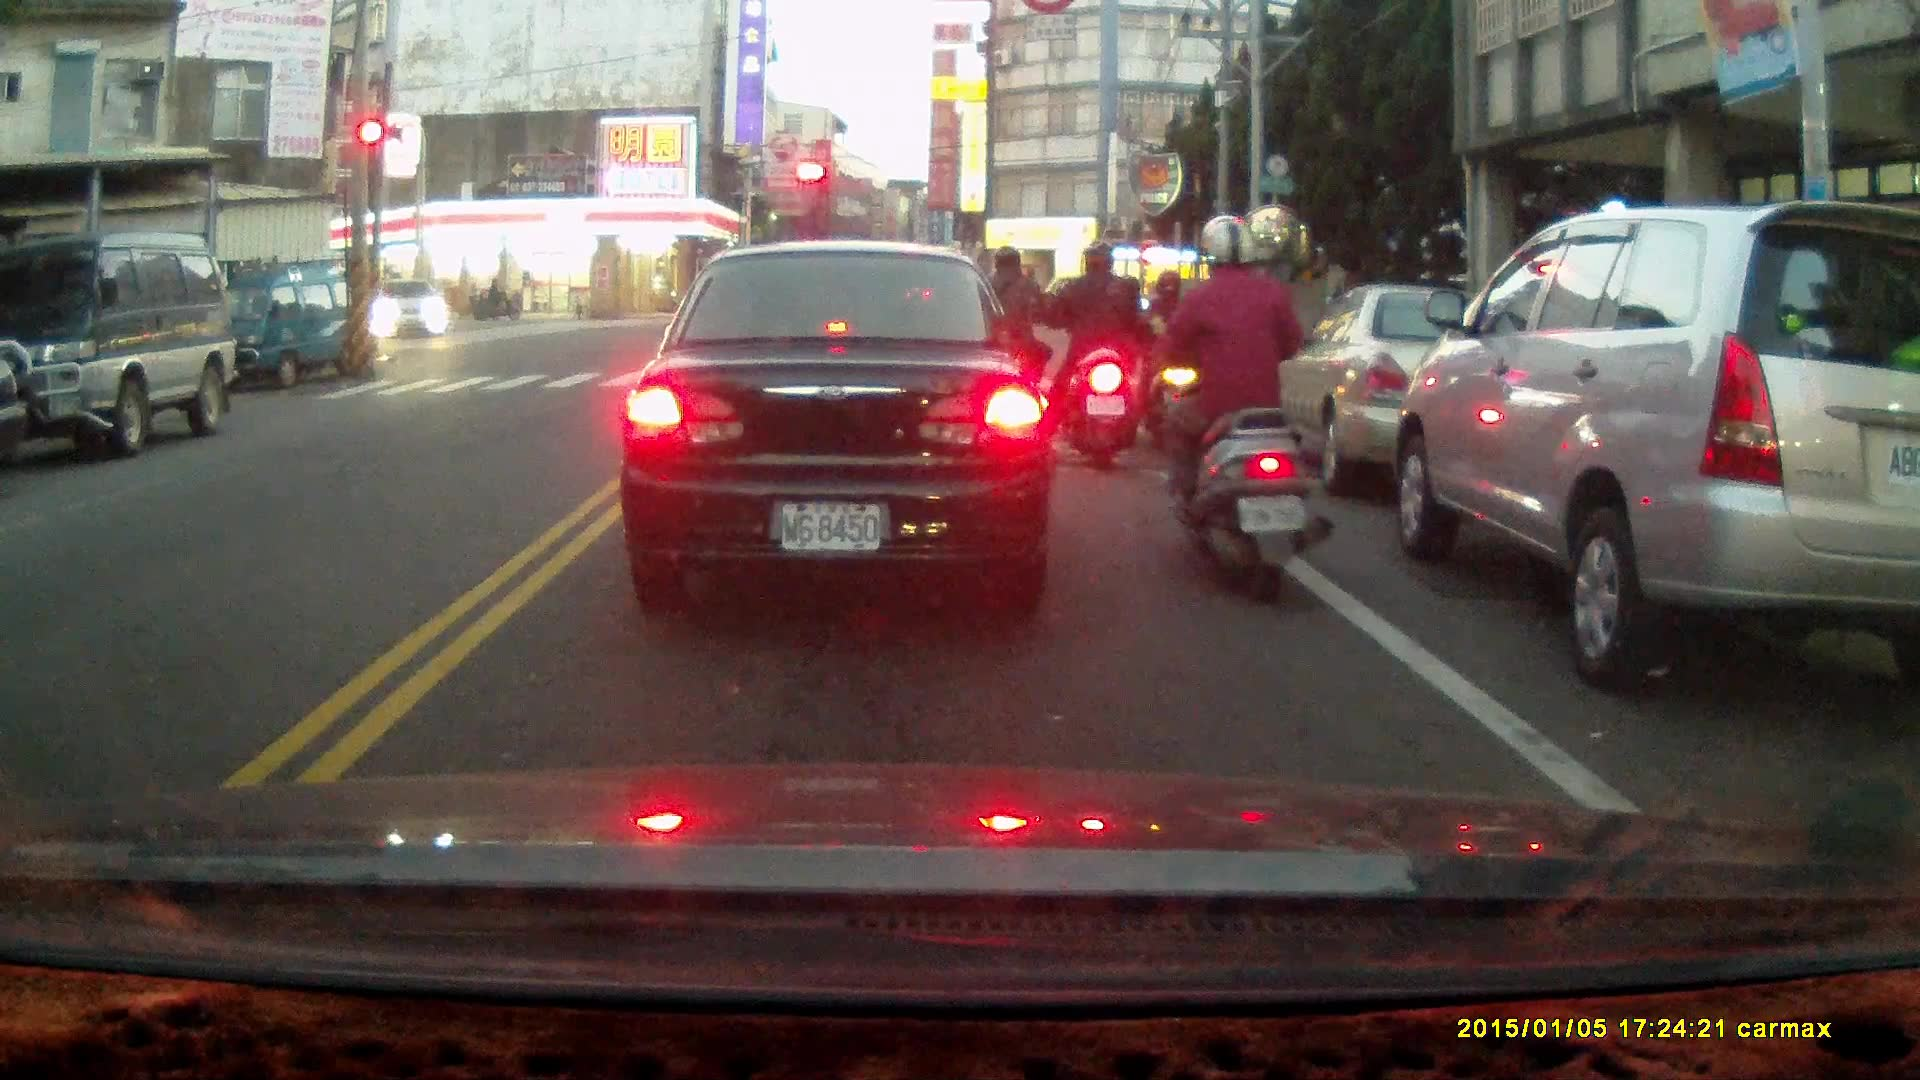rider: (1144, 210, 1332, 606), (1048, 242, 1141, 468), (960, 239, 1057, 432), (1134, 269, 1204, 450), (473, 278, 518, 319)
vehicle: (1385, 201, 1917, 694), (617, 243, 1061, 606), (1255, 286, 1565, 492), (1, 234, 239, 458), (194, 255, 380, 393), (372, 277, 451, 343)
